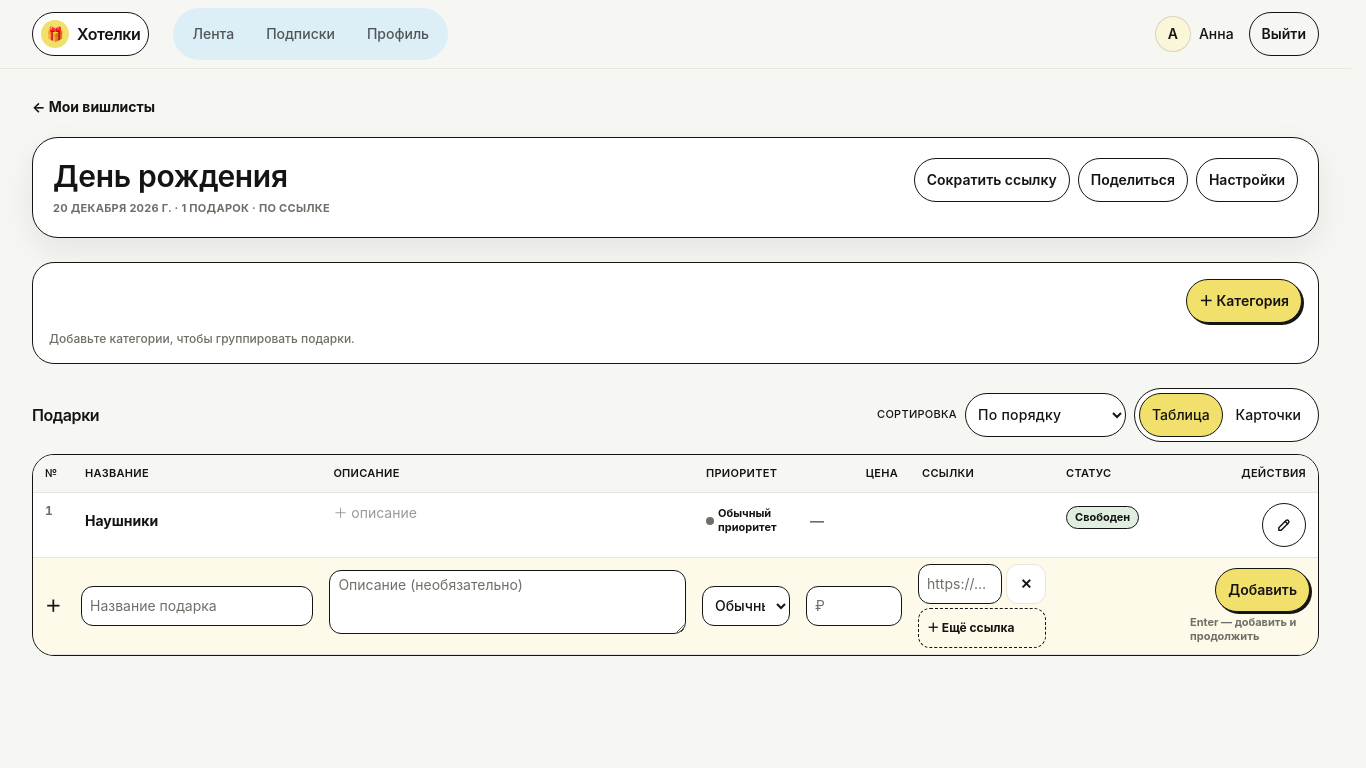
Test: категории: назначение в модалке › создаёт новую категорию в модалке и назначает её при сохранении
The image size is (1366, 768).
Expected: the text "Наушники" is shown, x1=85 y1=511 x2=158 y2=531
Click the button named "Редактировать подарок" at {"x": 1284, "y": 525}, box x1=1262 y1=503 x2=1306 y2=547
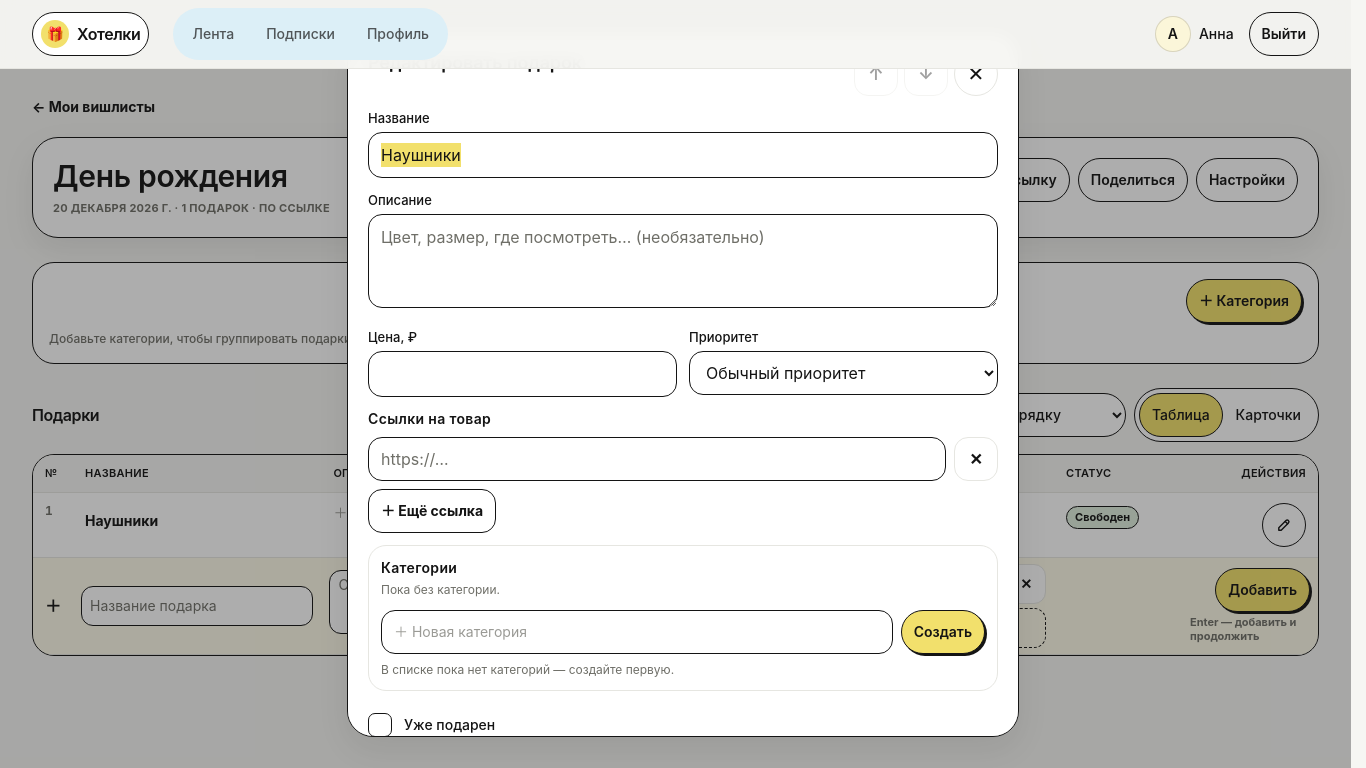
Type "Игрушки" into the field named "Название новой категории" at {"x": 637, "y": 632}, box x1=381 y1=610 x2=893 y2=654
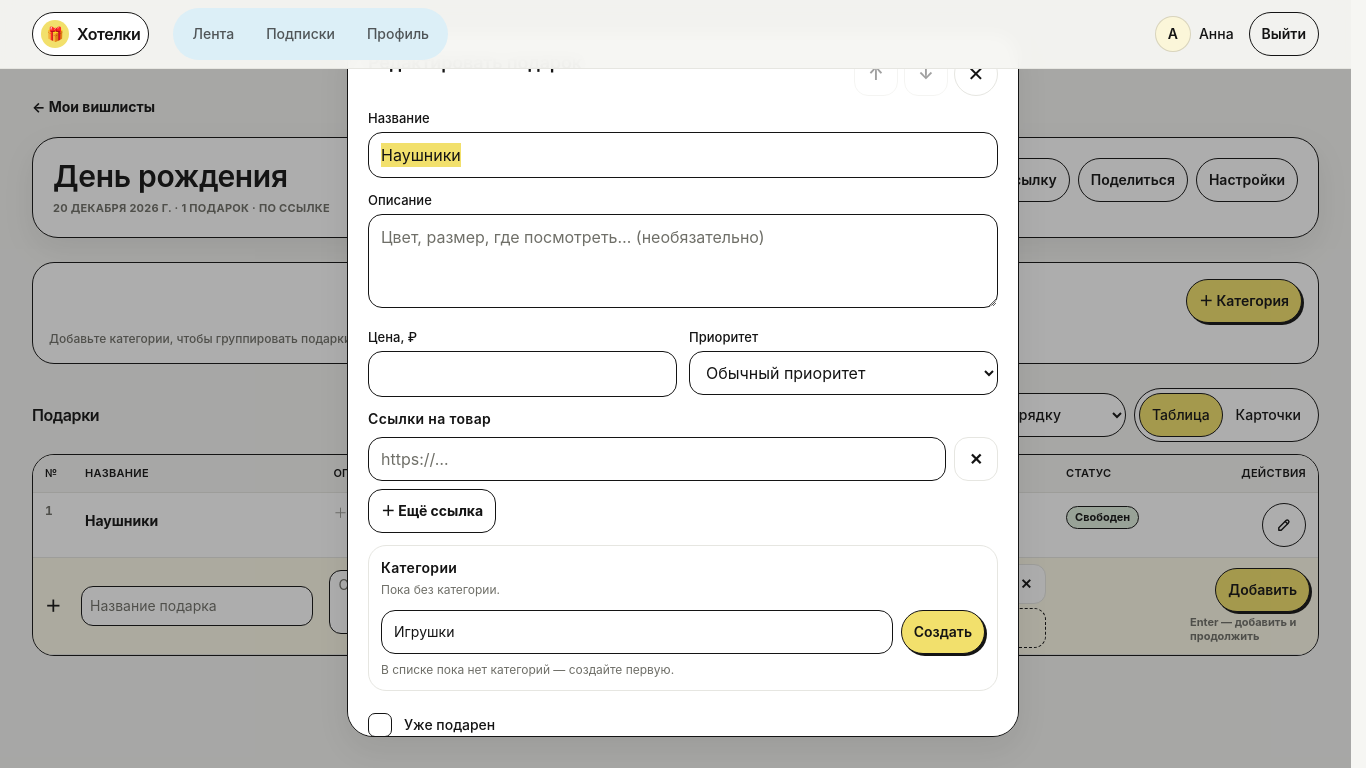
Press Enter in the field named "Название новой категории", box x1=381 y1=610 x2=893 y2=654
(page scrolled)
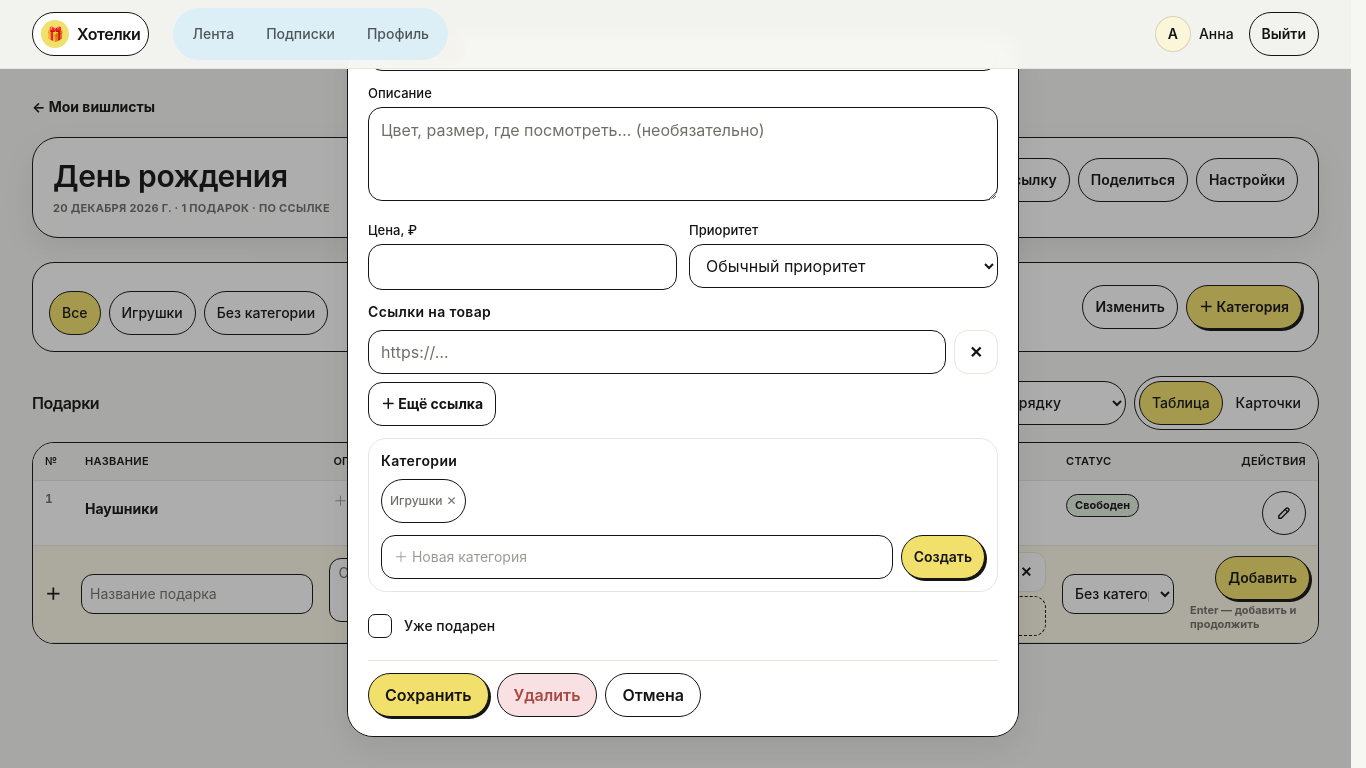
Expected: the button with aria-label "Снять категорию «Игрушки»" is shown, x1=381 y1=479 x2=466 y2=523
Click the button "Сохранить" at {"x": 428, "y": 695}, box x1=368 y1=673 x2=488 y2=717
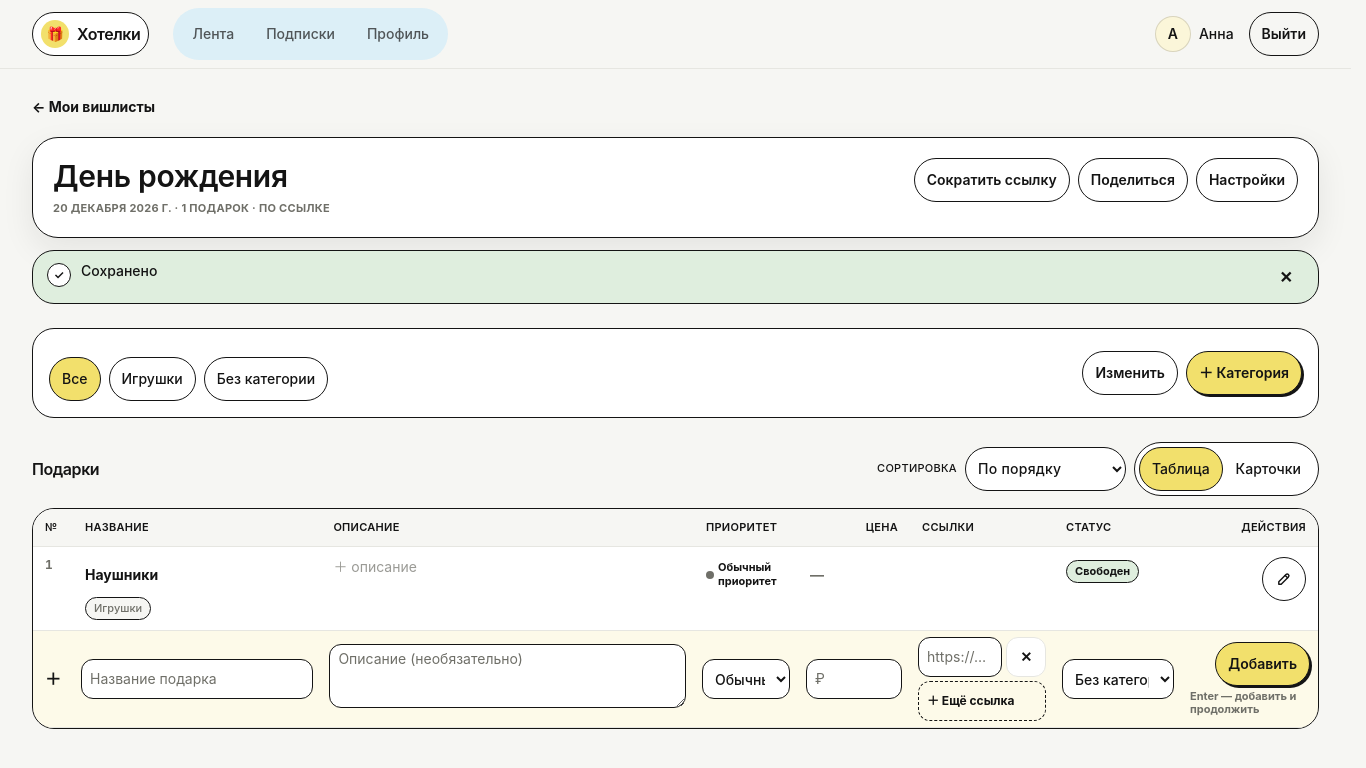
Expected: the text "Сохранено" is shown, x1=81 y1=262 x2=157 y2=278
